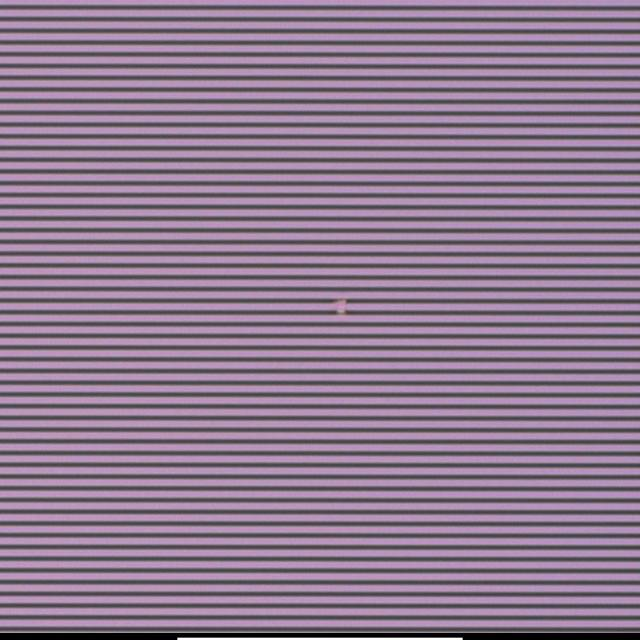03_intrusion: (334, 297, 351, 317)
